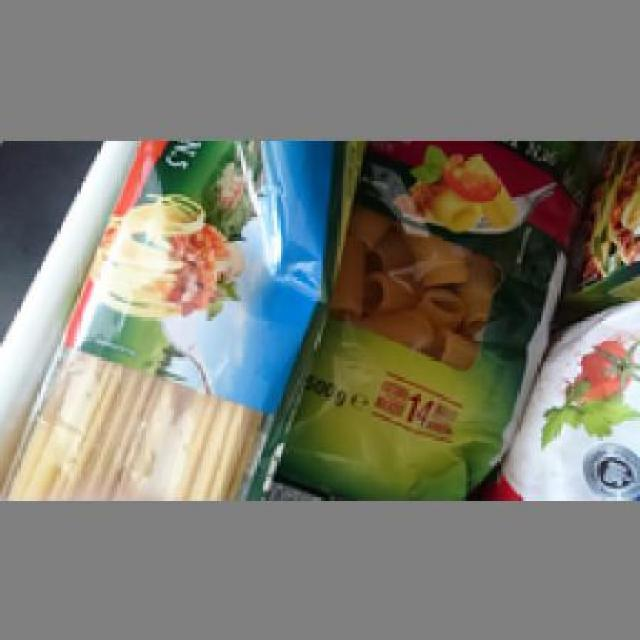Pasta: (0, 139, 352, 498)
